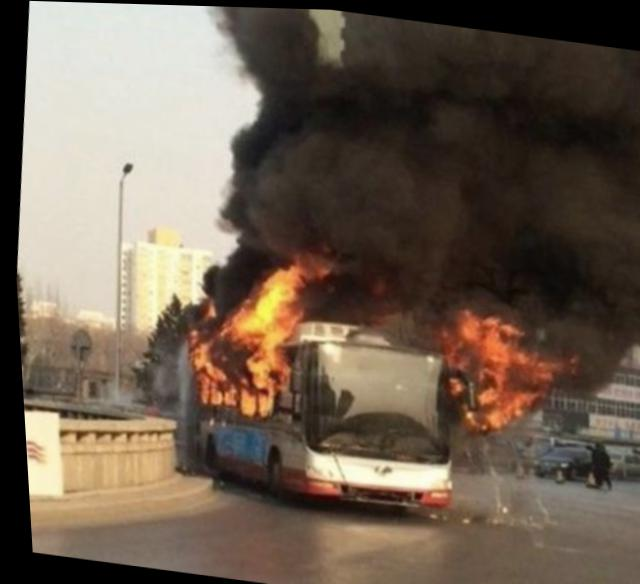fire: (163, 232, 329, 431), (424, 293, 574, 440)
